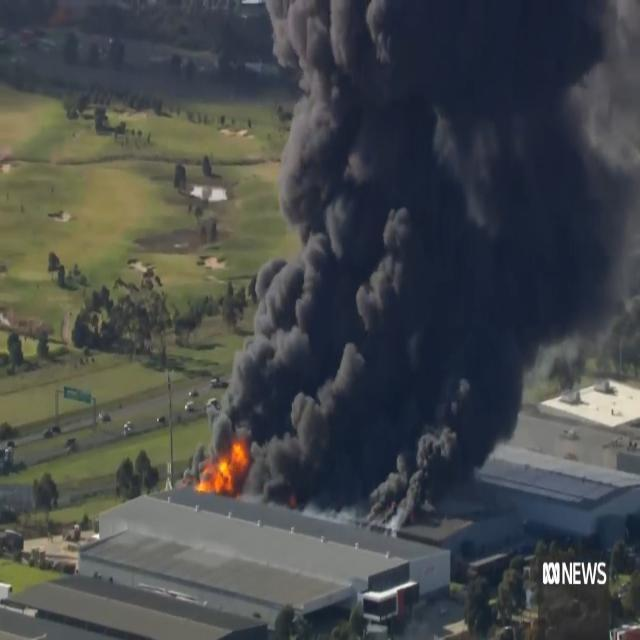fire: (203, 438, 250, 492)
